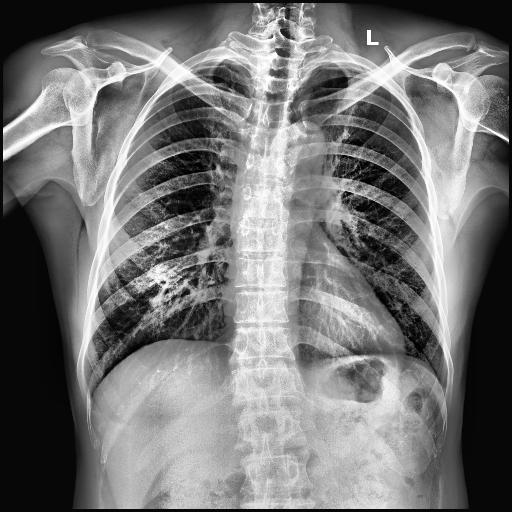0- Aortic enlargement: (276, 119, 328, 180), (272, 118, 324, 168), (276, 120, 327, 162)
